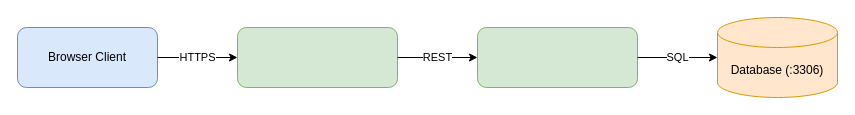
This 855x115 diagram has some shape labels left out. The shapes that lost their labels are listed below. From the top down, each one's box as (x1, y1, x2, y2) in pixels, then its label:
(236, 26, 398, 88): Frontend SPA (:8080)
(476, 26, 638, 88): REST API (:8080)
